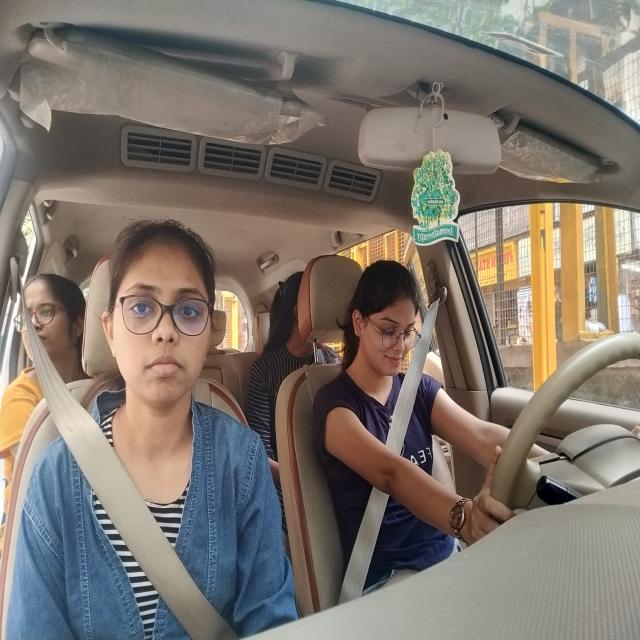drowsy: (346, 262, 424, 383)
person: (102, 217, 224, 409), (16, 273, 88, 360)
